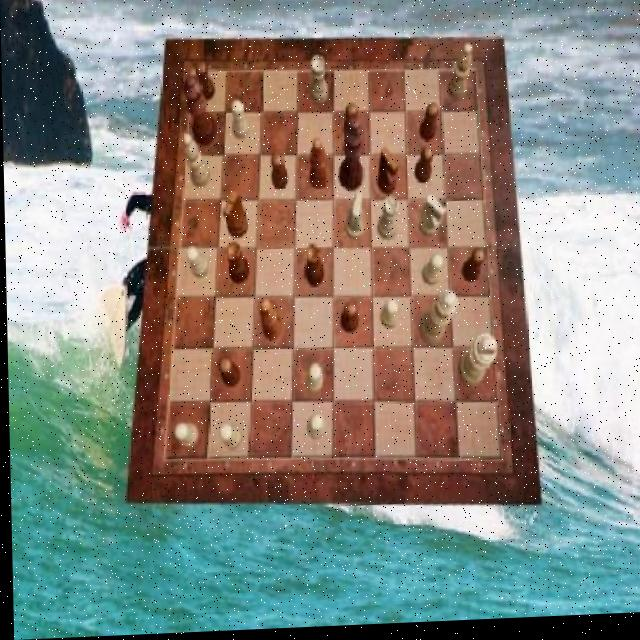bishop: (307, 141, 327, 192), (258, 301, 281, 344)
black-bishop: (336, 120, 365, 195)
black-king: (222, 192, 248, 241), (376, 151, 398, 199)
black-knight: (419, 106, 440, 146), (462, 252, 485, 287), (195, 64, 215, 104), (414, 151, 434, 188), (342, 106, 360, 144), (217, 358, 238, 390), (270, 156, 288, 193), (339, 304, 357, 338)
black-pawn: (183, 77, 217, 151)
black-queen: (224, 242, 248, 286), (303, 246, 324, 289)
black-rook: (182, 135, 210, 190), (447, 48, 473, 105)
white-bishop: (455, 337, 496, 392)
white-king: (418, 198, 445, 242), (344, 197, 364, 245)
white-knight: (184, 248, 208, 281), (231, 102, 249, 143), (420, 258, 443, 290), (174, 424, 199, 450), (217, 426, 241, 453), (304, 366, 322, 398), (304, 417, 324, 444), (379, 303, 397, 333)
white-pawn: (416, 294, 457, 349)
white-queen: (376, 200, 399, 245), (309, 58, 327, 108)
